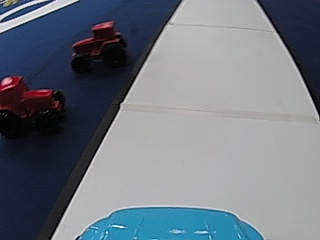tractor: (1, 72, 65, 137), (69, 18, 126, 74)
